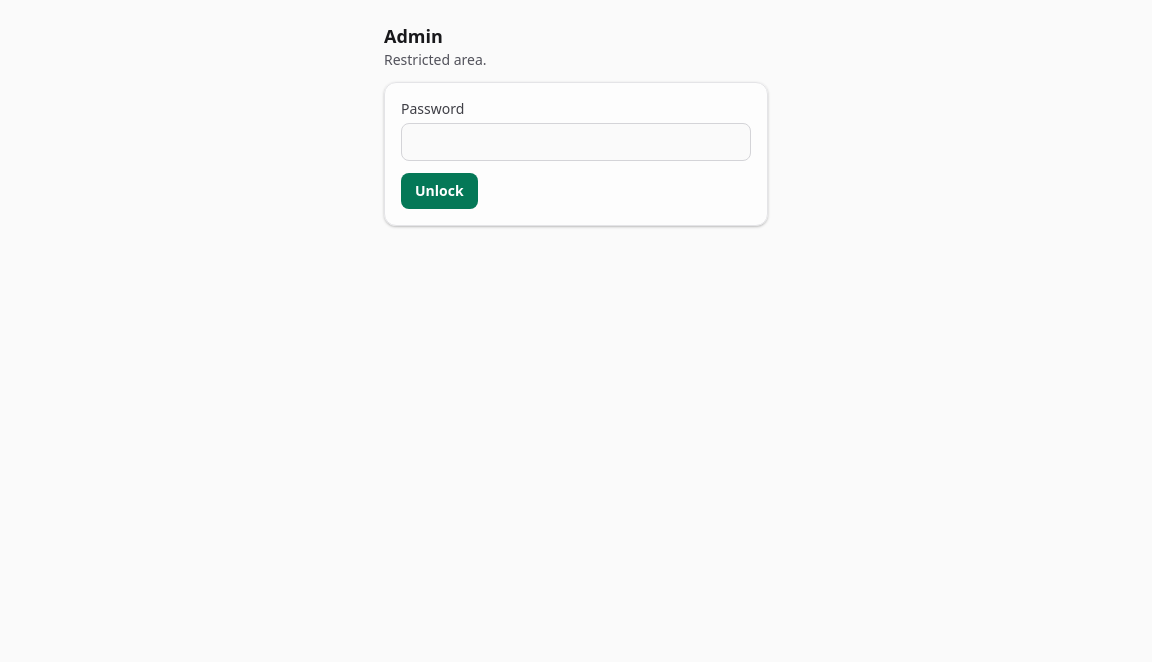
Test: <Admin /> › adds a gym from the dashboard
The width and height of the screenshot is (1152, 662).
Step 1. Type "ilikepie" into the password field labelled "Password" → (576, 142), box [401,123,751,161]
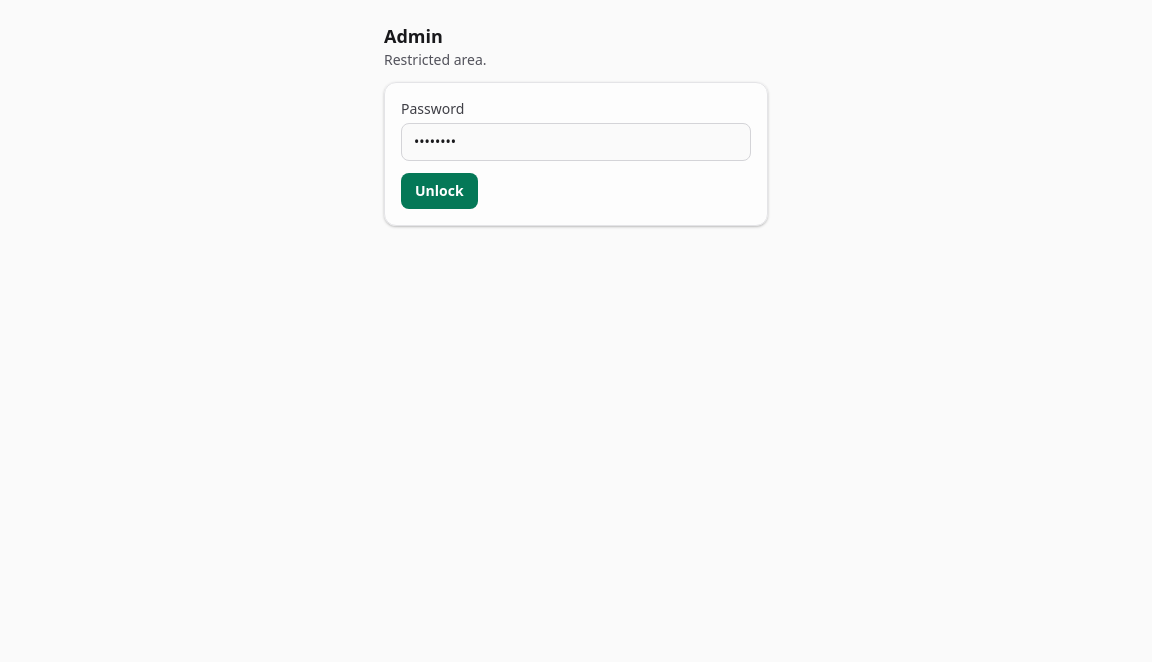
Step 2. Click the button "Unlock" → click(439, 191), box [401,173,478,209]
(page scrolled)
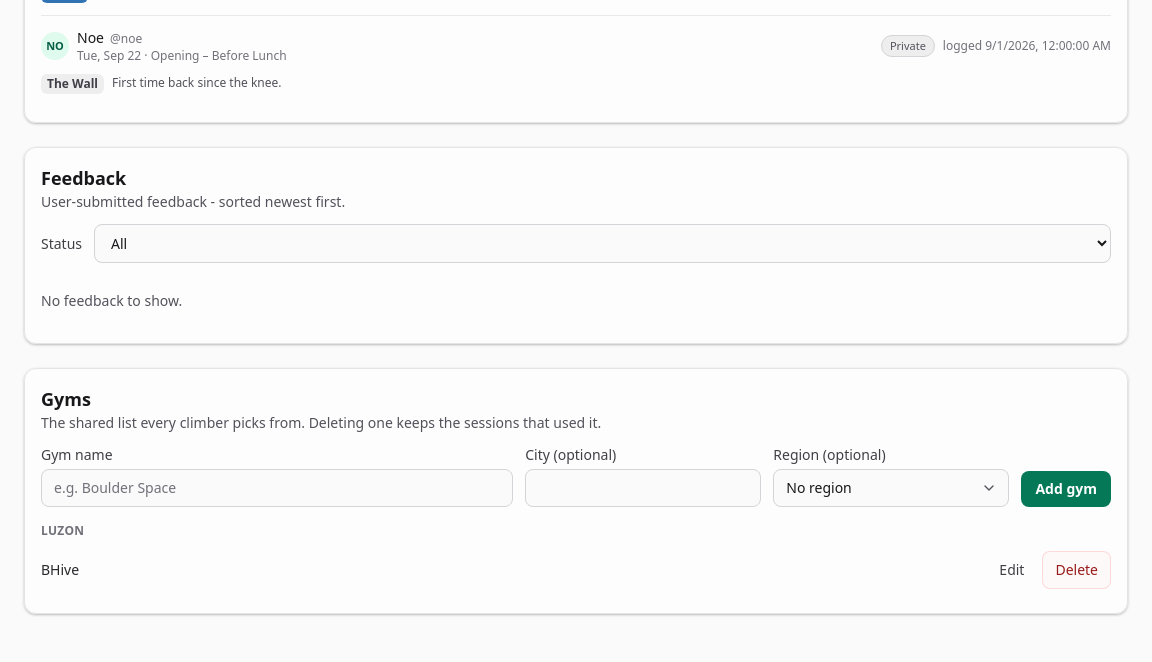
Step 3. Type "Edge Climb" into the field labelled "Gym name" → (277, 488), box [41,469,513,507]
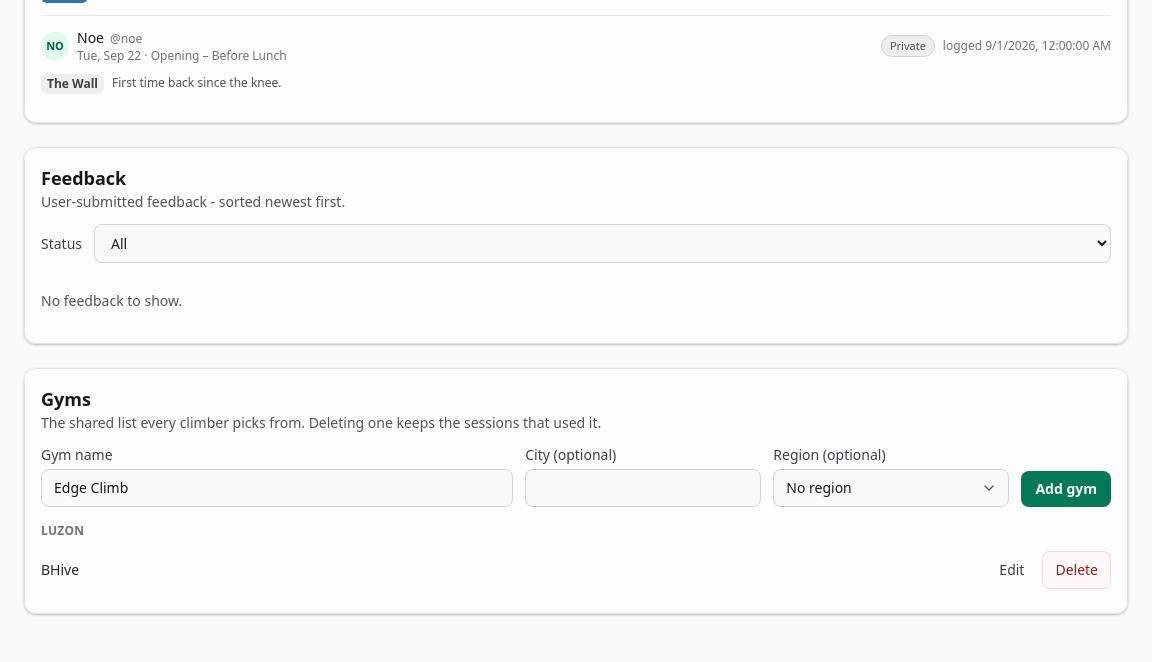
Step 4. Type "Makati" into the field labelled "City (optional)" → (643, 488), box [525,469,761,507]
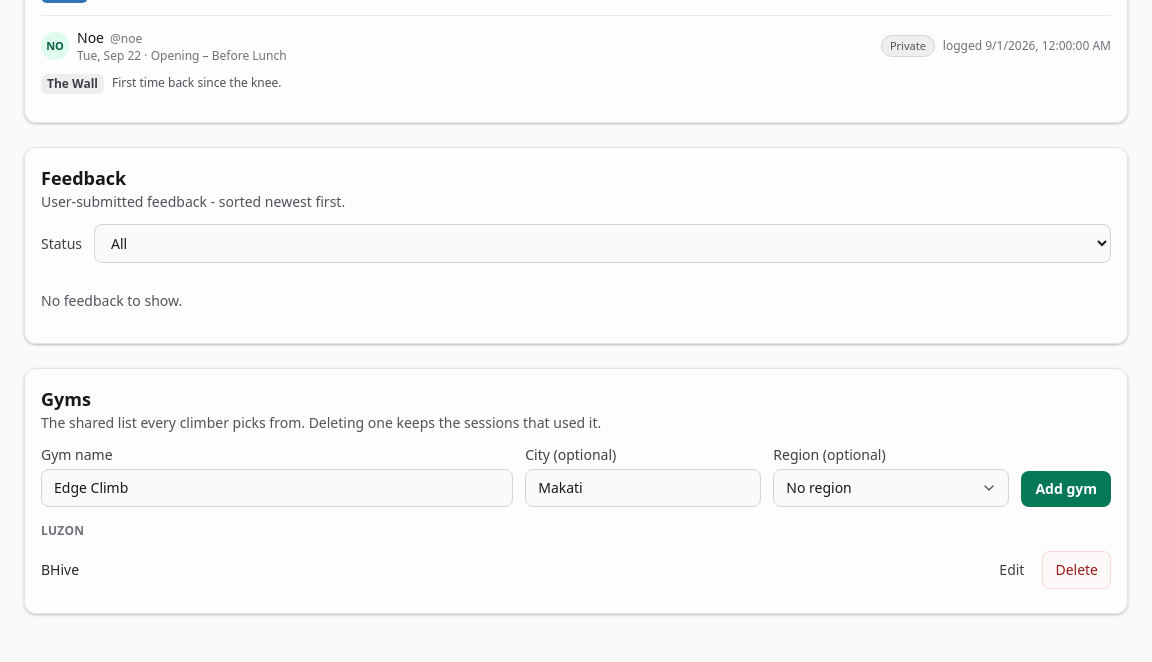
Step 5. Select "Luzon" in the dropdown labelled "Region (optional)" → (891, 488), box [773,469,1009,507]
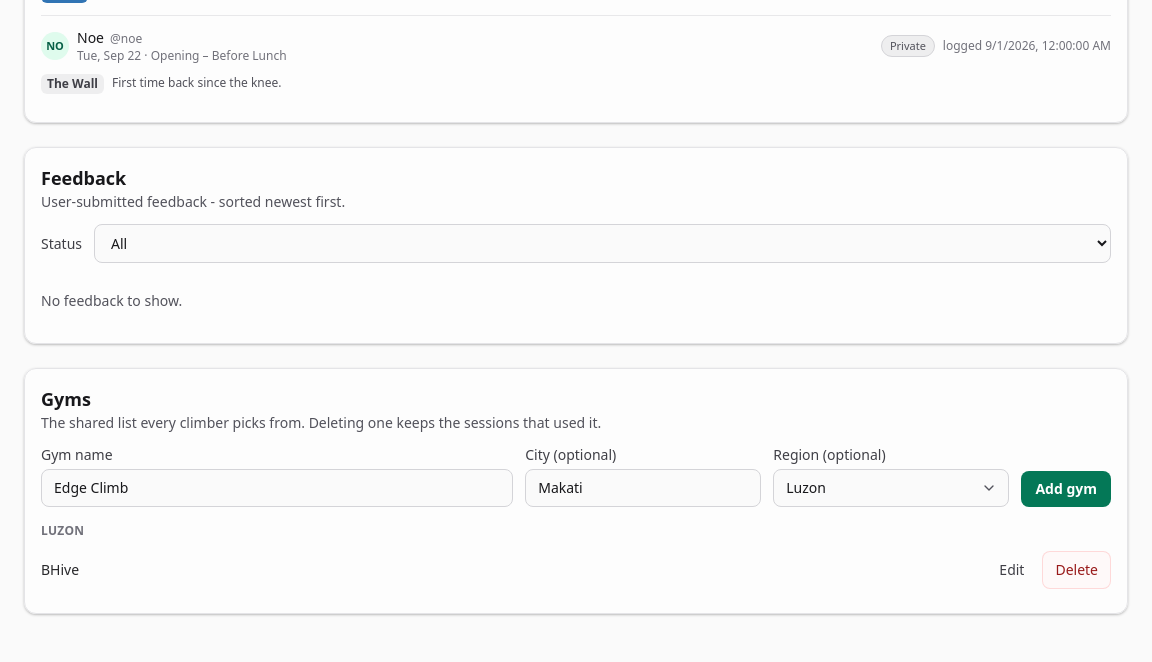
Step 6. Click the button "Add gym" → click(1066, 489), box [1021,471,1111,507]
(page scrolled)
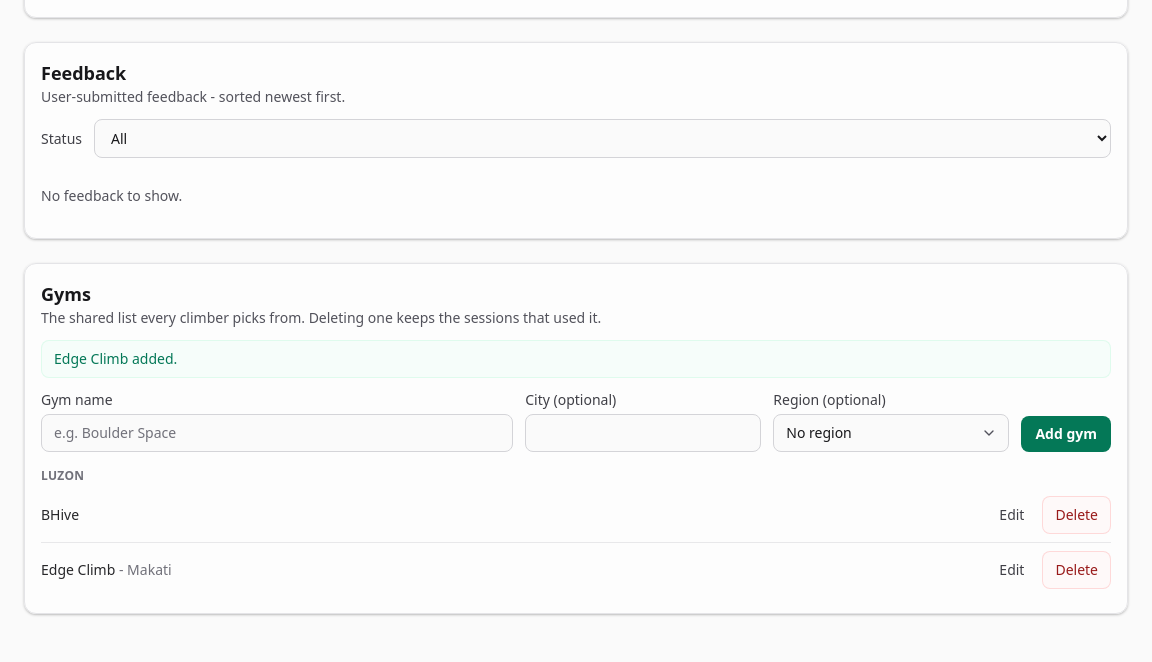
Expected: the text "Edge Climb added." is shown, [41,340,1111,378]
